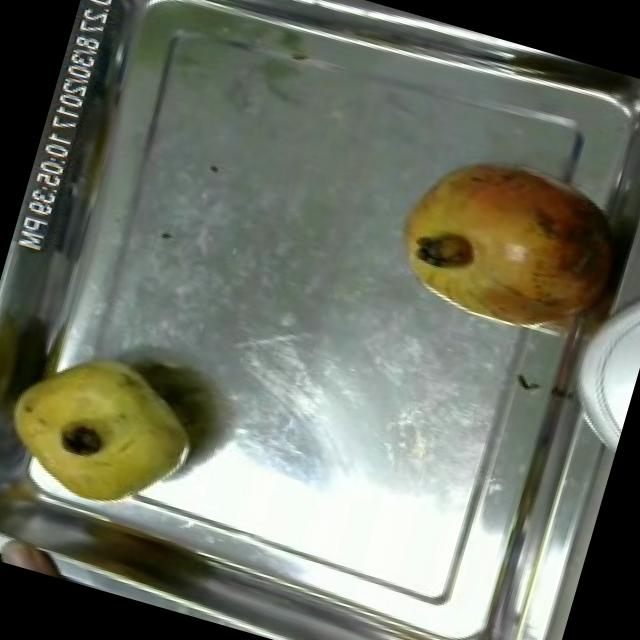fruit: (367, 119, 640, 361), (0, 329, 216, 530), (0, 528, 85, 583)
